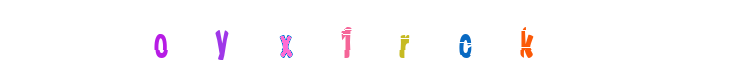1: (328, 0, 408, 80)
C: (392, 0, 472, 80)
K: (486, 0, 566, 80)
O: (152, 0, 232, 80)
R: (368, 0, 448, 80)
X: (301, 0, 381, 80)
Y: (263, 0, 343, 80)
